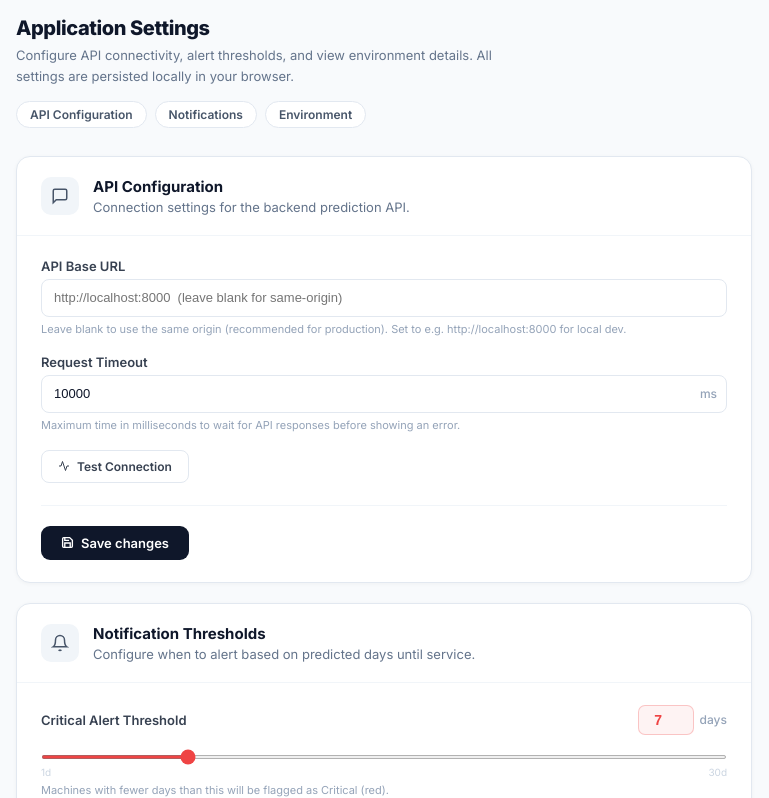
Test: SettingsPage — save API settings › shows "Saved to local storage" confirmation after saving
Click the button "Save changes" at (115, 543), box [41,526,189,560]
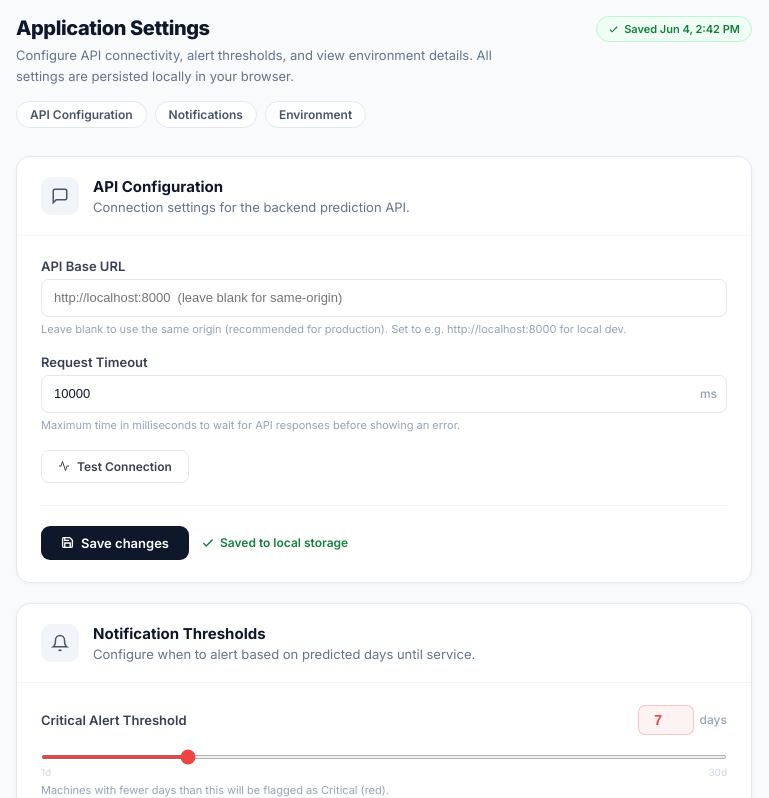
expect the text "Saved to local storage" is shown: met, box [201,535,348,550]
